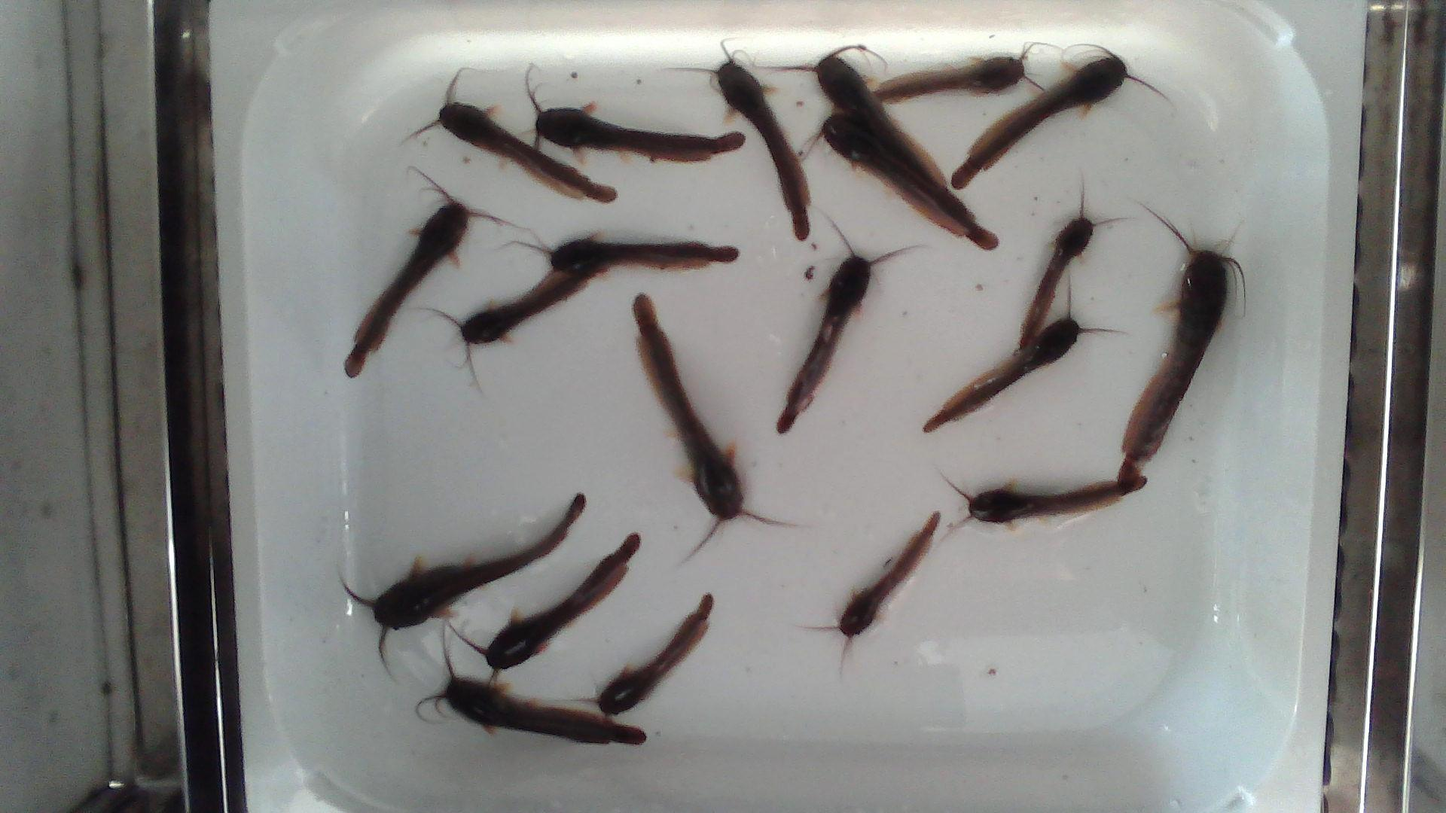lele: (332, 495, 585, 687), (633, 294, 805, 562), (346, 162, 529, 376), (1120, 201, 1248, 487), (778, 208, 925, 433), (922, 278, 1123, 434), (952, 46, 1165, 191), (403, 62, 615, 202), (657, 47, 809, 239), (803, 114, 998, 250), (443, 534, 639, 669), (764, 44, 948, 187), (526, 58, 745, 160), (413, 274, 588, 400), (1018, 181, 1137, 350), (434, 676, 645, 744), (597, 594, 712, 714), (835, 512, 939, 644), (870, 39, 1044, 103), (501, 239, 734, 278), (969, 476, 1146, 522)
